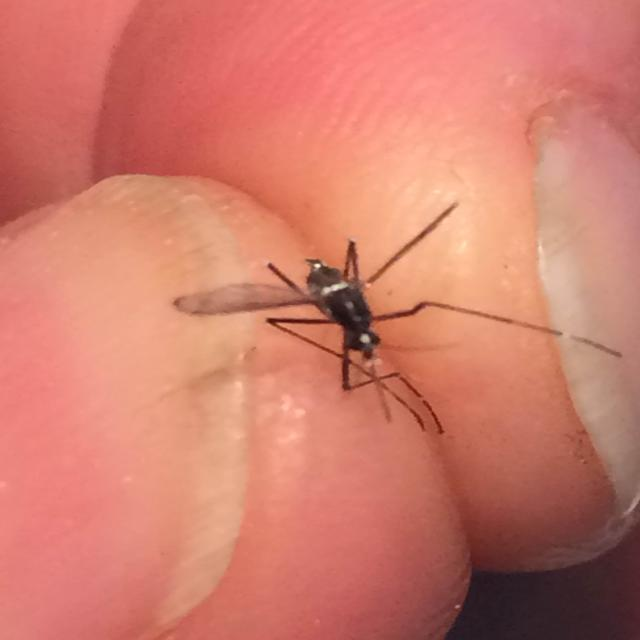albopictus: (210, 197, 604, 443)
